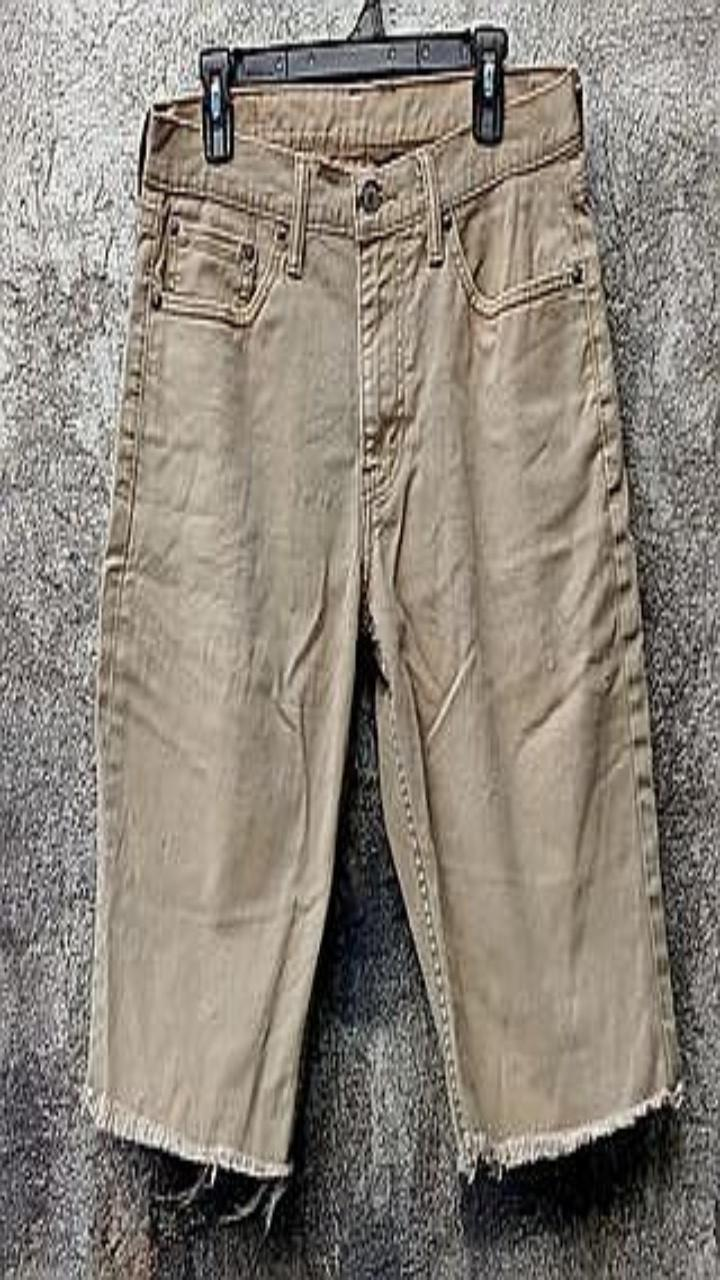Shorts: (83, 66, 682, 1180)
